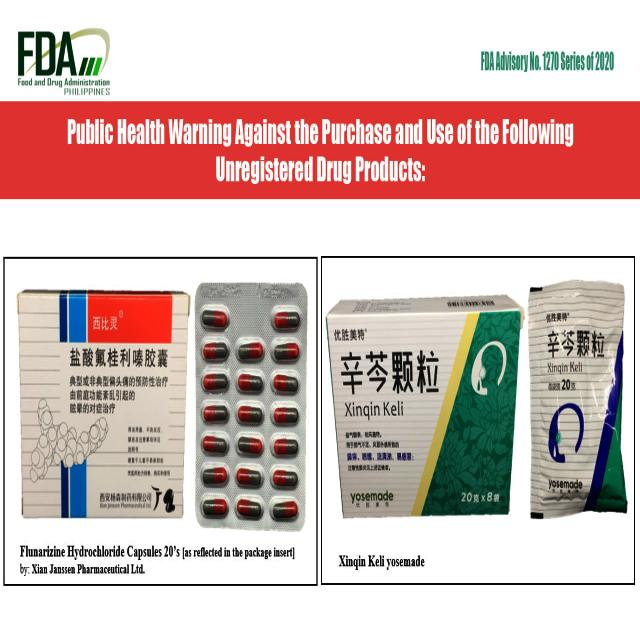counterfeit: (328, 294, 520, 524), (16, 286, 188, 528), (193, 278, 309, 532), (526, 278, 630, 520)
